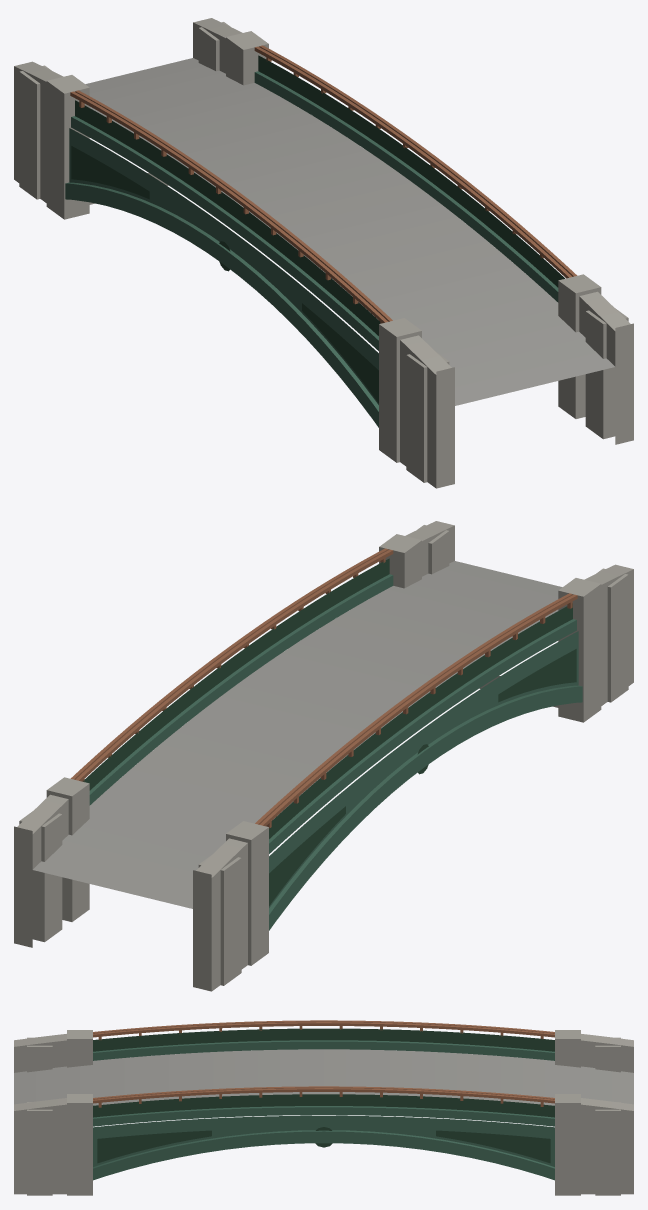
Rendered from nyc-lullwater-bridge.glb.
3 views of the same model, one above another, from view 1: azimuth 30°, elevation 25°; view 2: azimuth 150°, elevation 25°; view 3: azimuth 270°, elevation 25° (orthographic). The views are drawn at different scales.
Parts seen in each view (by area): view 1: Lullwater Bridge; view 2: Lullwater Bridge; view 3: Lullwater Bridge.
Boxes of the visible parts, x1,y1,x2,y2 form: Lullwater Bridge: (14,18,633,488); Lullwater Bridge: (14,521,633,991); Lullwater Bridge: (14,1020,633,1195).
Bounding box in the file's own units: 6.04 × 4 × 21.6.
